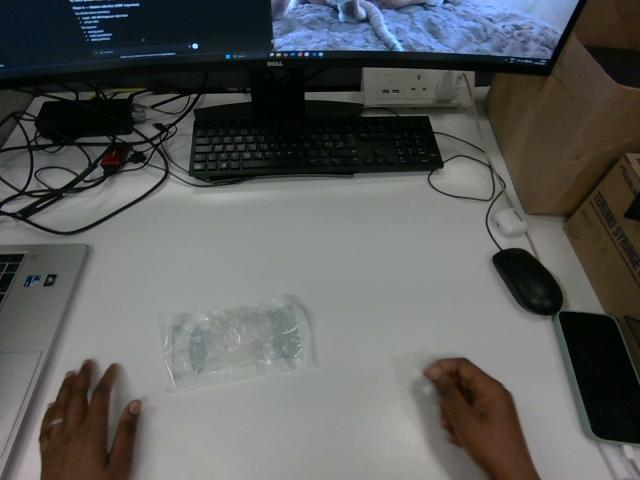gallipot: (163, 296, 312, 389)
